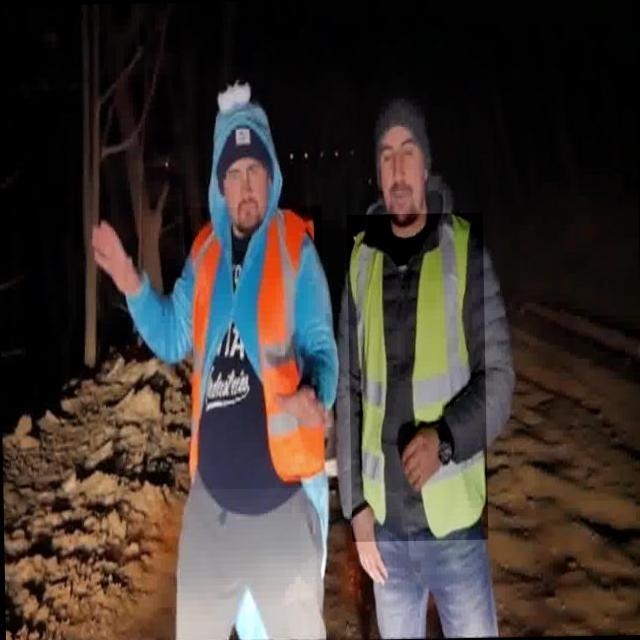Person: (74, 42, 340, 640), (339, 74, 528, 640)
Safety Vest: (347, 213, 488, 543), (183, 205, 326, 489)
bare-arms: (345, 494, 400, 598), (83, 216, 149, 301), (393, 419, 462, 497)
no-helmet: (208, 79, 276, 166), (369, 92, 434, 152)
